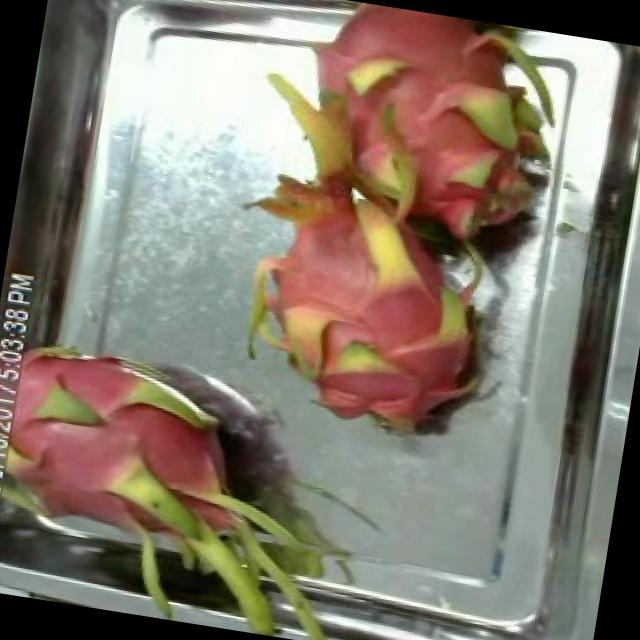Fruit: (599, 40, 640, 75)
